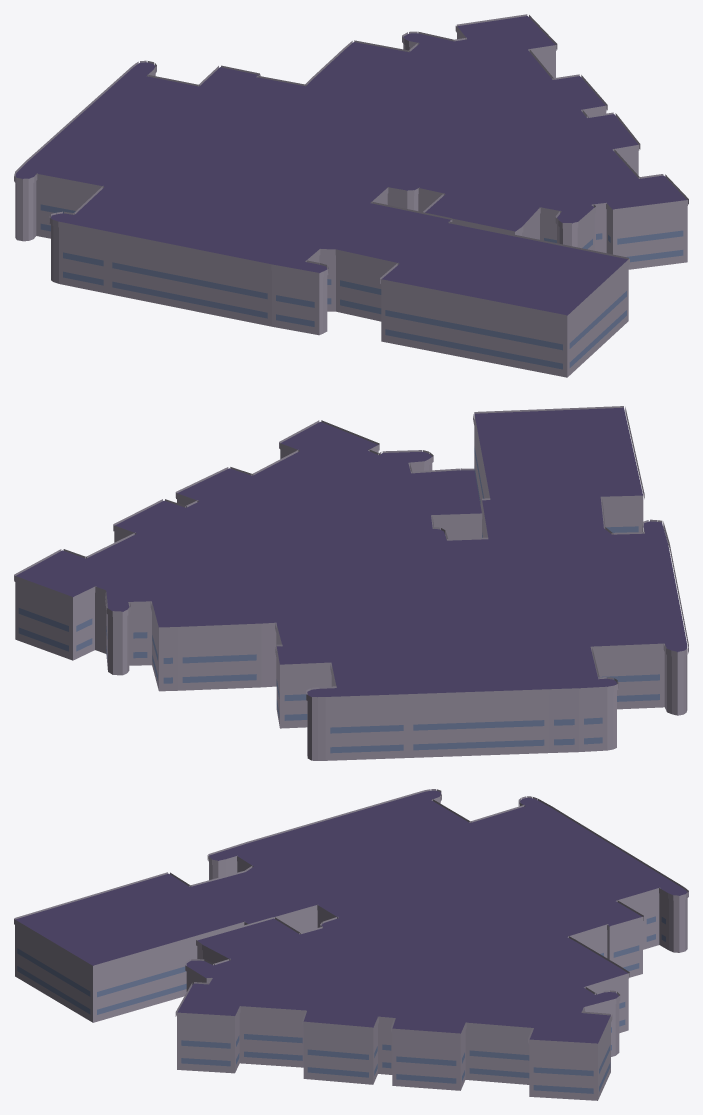
Rendered from core-weldon-library-day.glb.
3 renders of one model, top to bottom at view 1: azimuth 30°, elevation 25°; view 2: azimuth 150°, elevation 25°; view 3: azimuth 270°, elevation 25°, orthographic. The views are drawn at different scales.
Visible parts, largest first — view 1: campus/core-weldon-library-day-0; view 2: campus/core-weldon-library-day-0; view 3: campus/core-weldon-library-day-0.
Boxes of the visible parts, left/top/right/bottom form: campus/core-weldon-library-day-0: left=14, top=14, right=688, bottom=377; campus/core-weldon-library-day-0: left=14, top=406, right=688, bottom=760; campus/core-weldon-library-day-0: left=14, top=789, right=688, bottom=1100.
Size of the model in its own units: 111 by 11.8 by 125.
